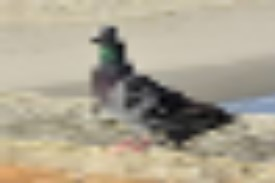pigeon: (84, 21, 233, 154)
